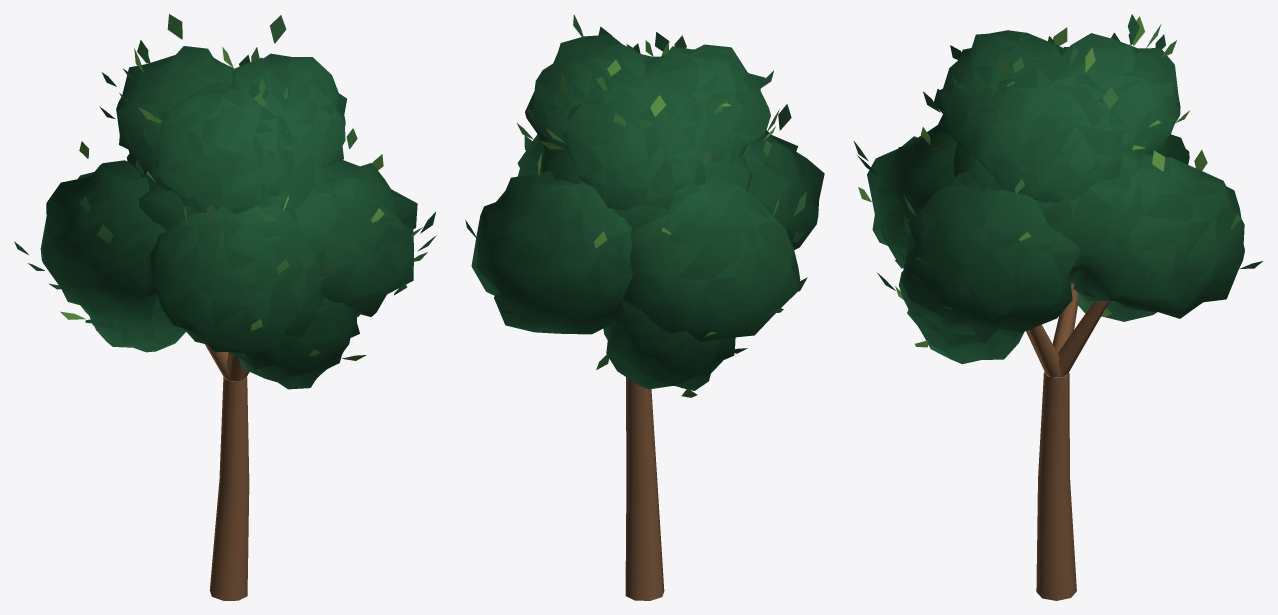
Rendered from ZB_bitki_koru_agac.glb.
3 views of the same model, side by side, from view 1: azimuth 30°, elevation 25°; view 2: azimuth 150°, elevation 25°; view 3: azimuth 270°, elevation 25° (orthographic). The views are drawn at different scales.
Parts seen in each view (by area): view 1: ZB_bitki_koru_agac; view 2: ZB_bitki_koru_agac; view 3: ZB_bitki_koru_agac.
Part boxes in pixels (box(x1,y1,x2,y2)): ZB_bitki_koru_agac: box(14, 14, 436, 600); ZB_bitki_koru_agac: box(465, 14, 824, 600); ZB_bitki_koru_agac: box(854, 14, 1262, 600).
Bounding box in the file's own units: 7.33 × 11.95 × 7.69.
